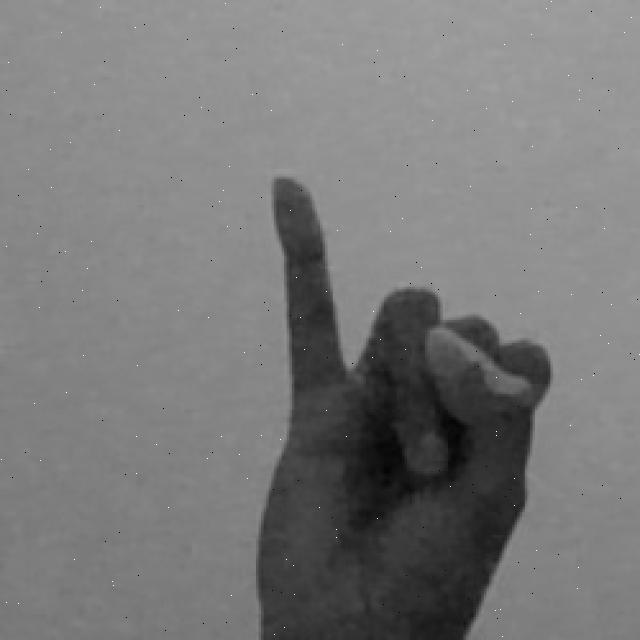I: (255, 171, 555, 640)
